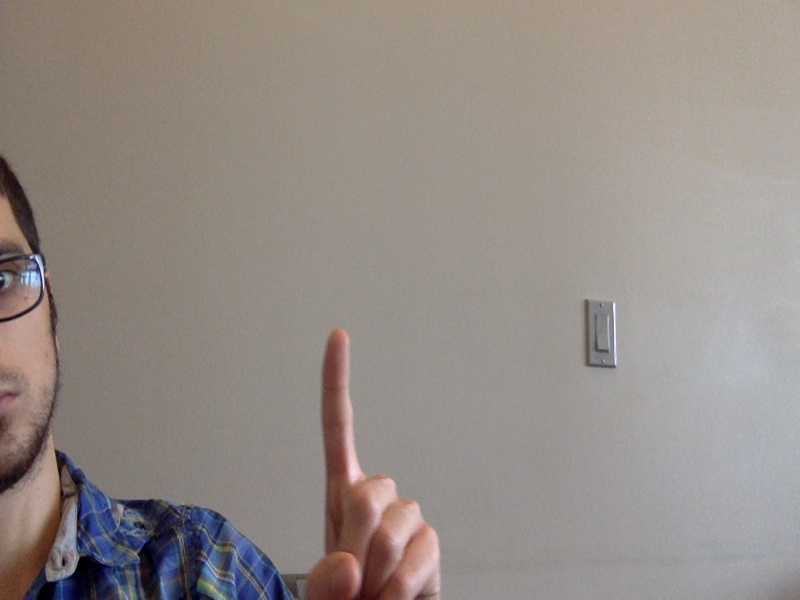1-hand: (308, 329, 442, 600)
